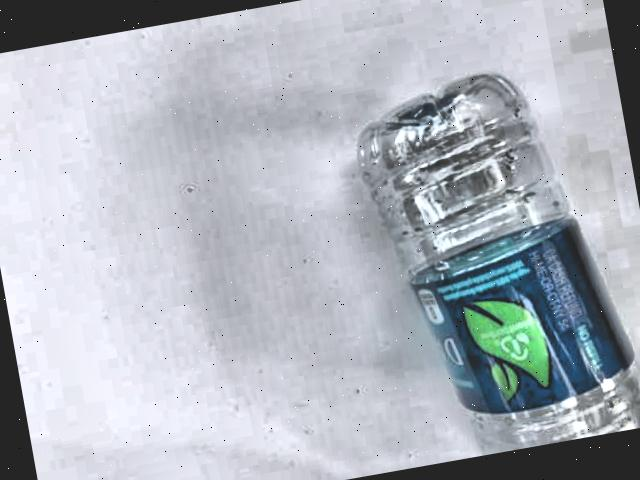Bottles: (356, 43, 640, 461)
